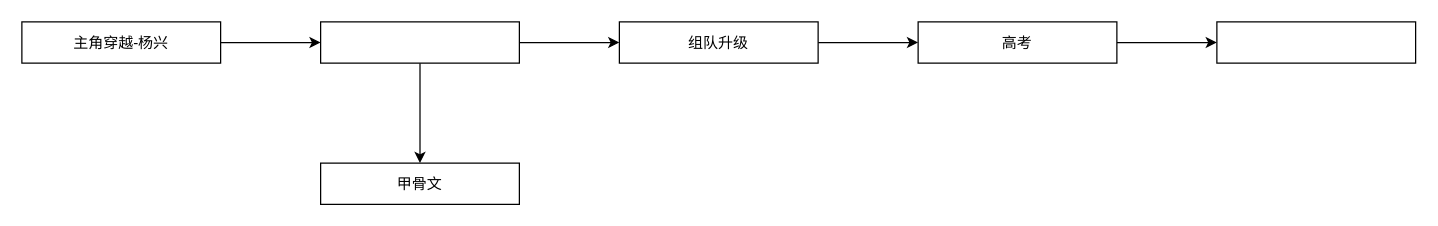
The diagram is 1438 pixels wide and 226 high, and some of its shapes have lost their labels. Here are the shapes that lost their labels. From the top down, the box of each, then its label:
(319, 21, 519, 63): 觉醒大会
(1216, 21, 1416, 63): 兽潮
